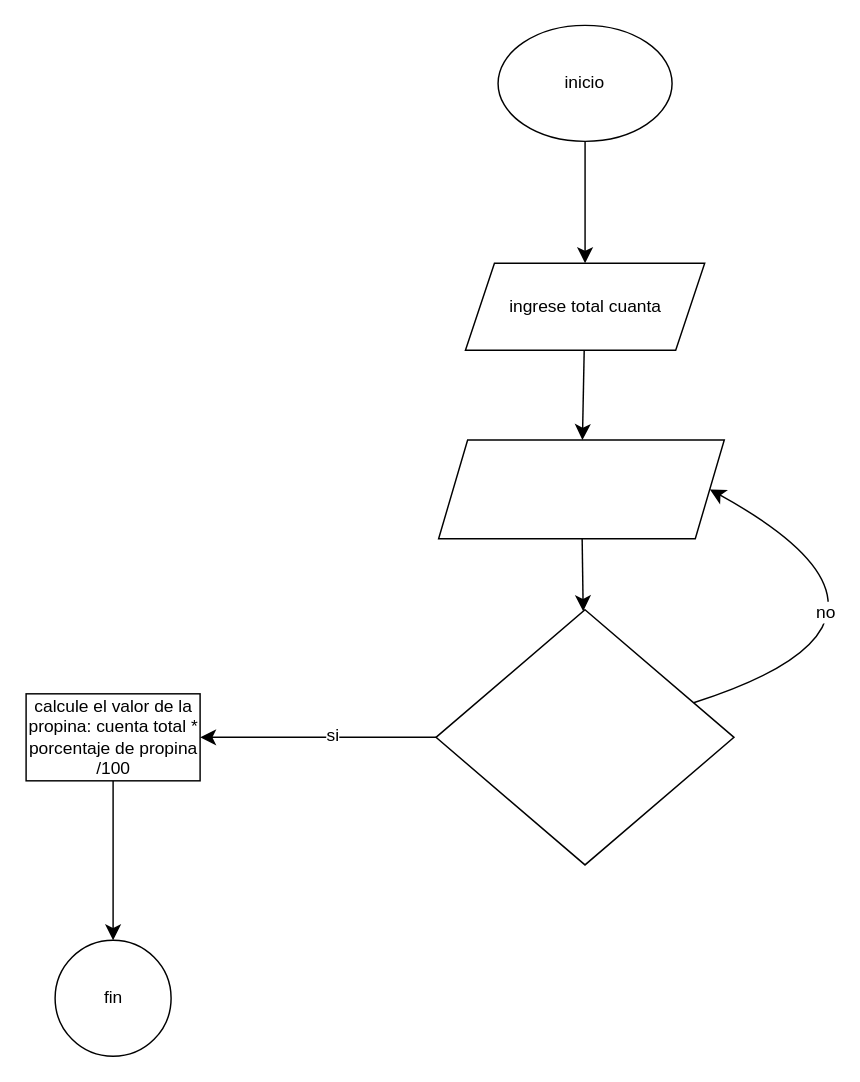
Some shapes in this 860 by 1082 pixel diagram are drawn without their labels. The shapes that lost their labels are listed below. From the top down, each one's centre as x and y in pixels, then its label:
At point (580, 489): "ingrese porcentaje de propina 10 ,15, 20".
At point (584, 736): "porcentaje de propina esta entre 10,15 o 20".
